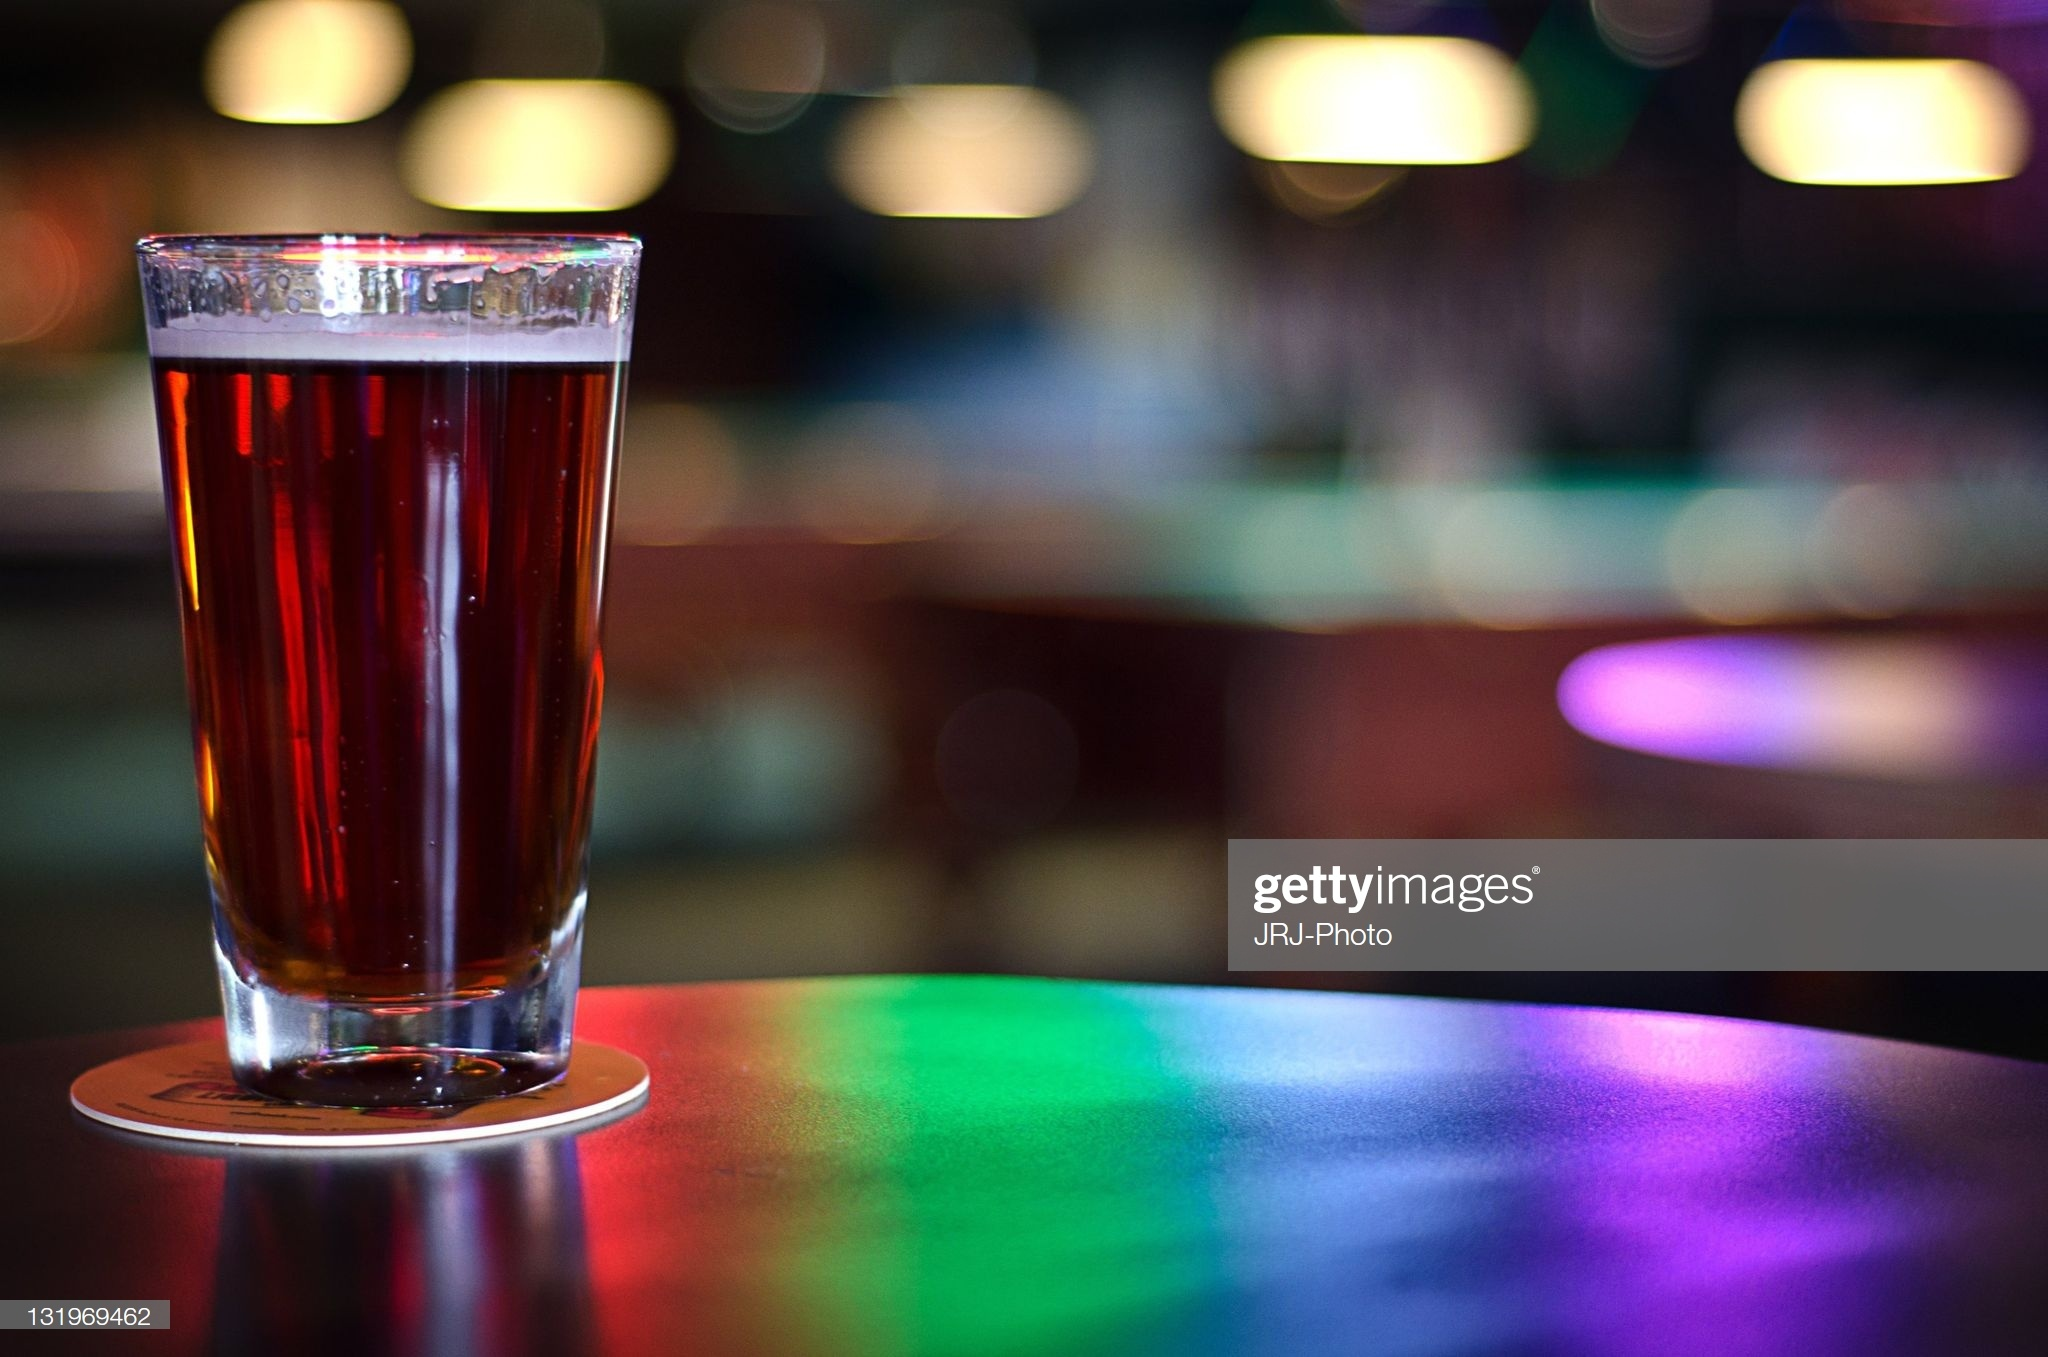glassBeer: (142, 235, 655, 1077)
